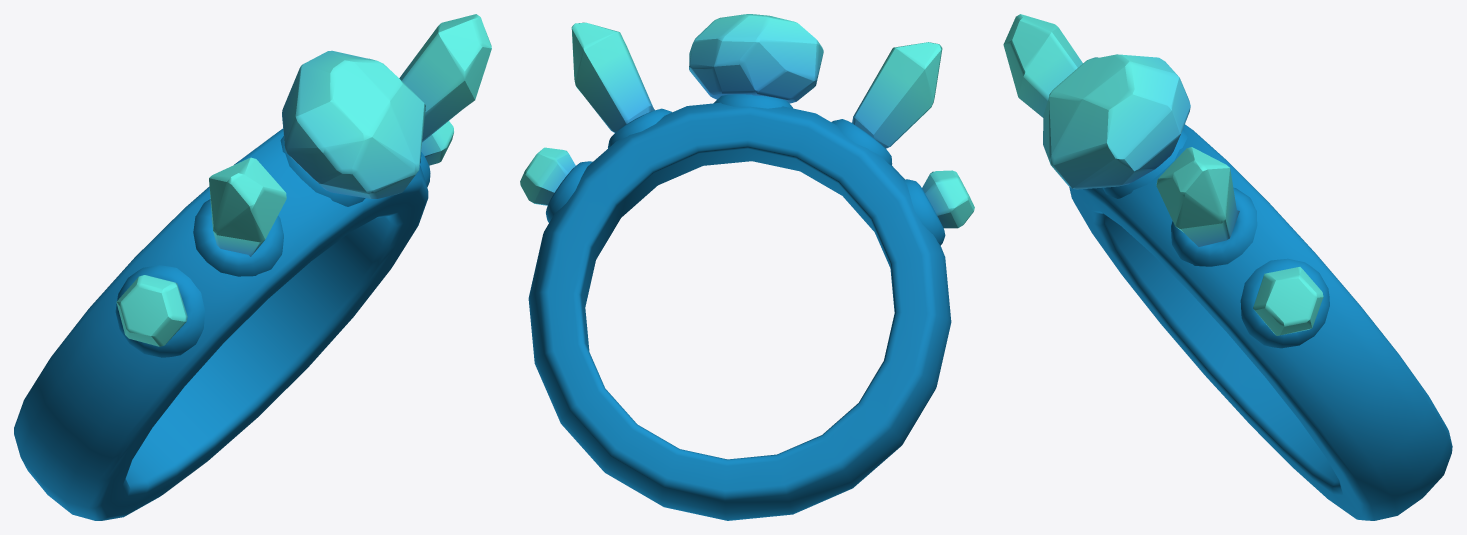
3 views of the same model, side by side, from view 1: azimuth 30°, elevation 25°; view 2: azimuth 150°, elevation 25°; view 3: azimuth 270°, elevation 25° (orthographic). The views are drawn at different scales.
Parts seen in each view (by area): view 1: model_1.089; view 2: model_1.089; view 3: model_1.089.
Part boxes in pixels (left/top/right/bottom): model_1.089: left=14, top=14, right=491, bottom=520; model_1.089: left=520, top=14, right=974, bottom=520; model_1.089: left=1003, top=14, right=1452, bottom=520.
Bounding box in the file's own units: 3.94 × 4.11 × 3.49.
